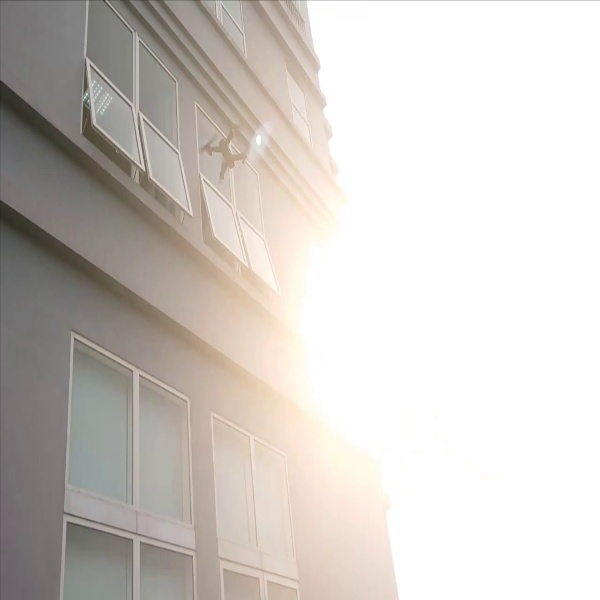drone: (196, 119, 252, 186)
